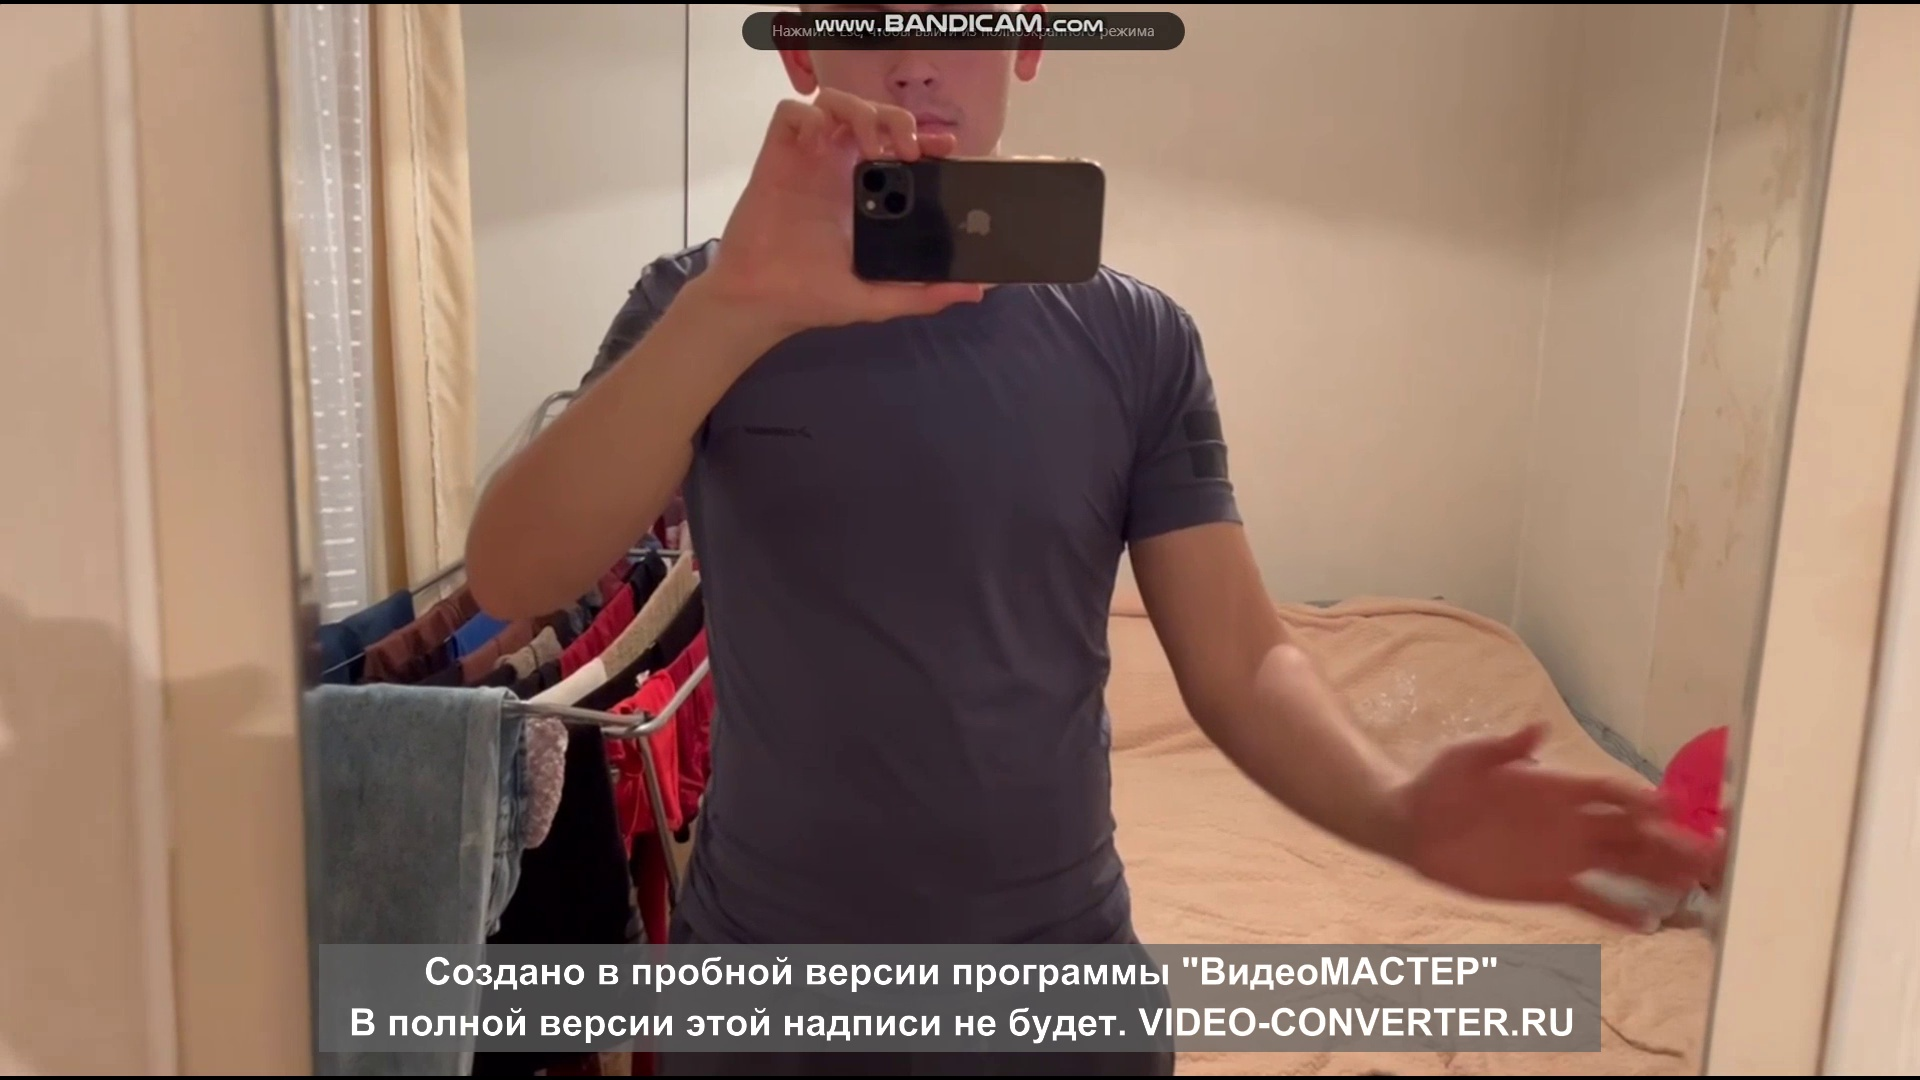Ладонь: (1416, 717, 1712, 931)
